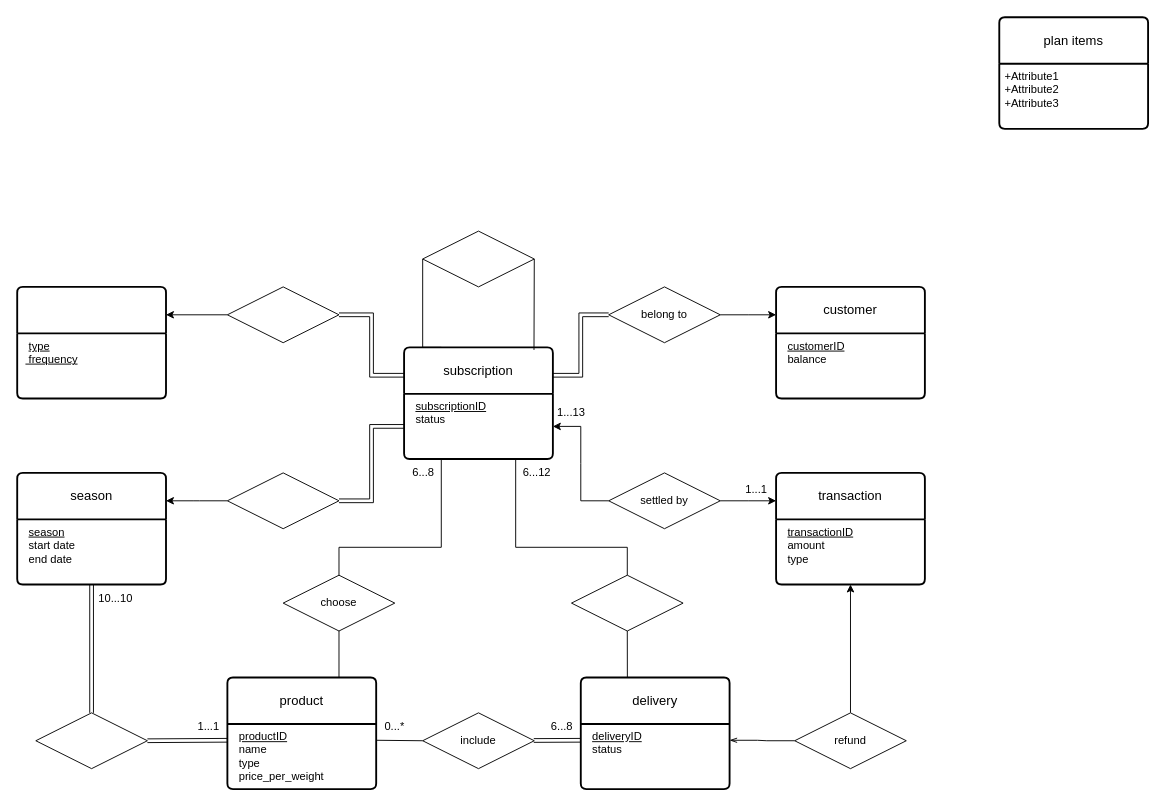
This 1164x805 diagram has some shape labels left out. Each missing label, with the box of its shape:
grow: (35, 712, 147, 769)
have: (571, 574, 683, 631)
offer as: (226, 286, 339, 343)
plan: (16, 286, 166, 399)
renew: (422, 230, 534, 287)
schedule: (226, 472, 339, 529)
